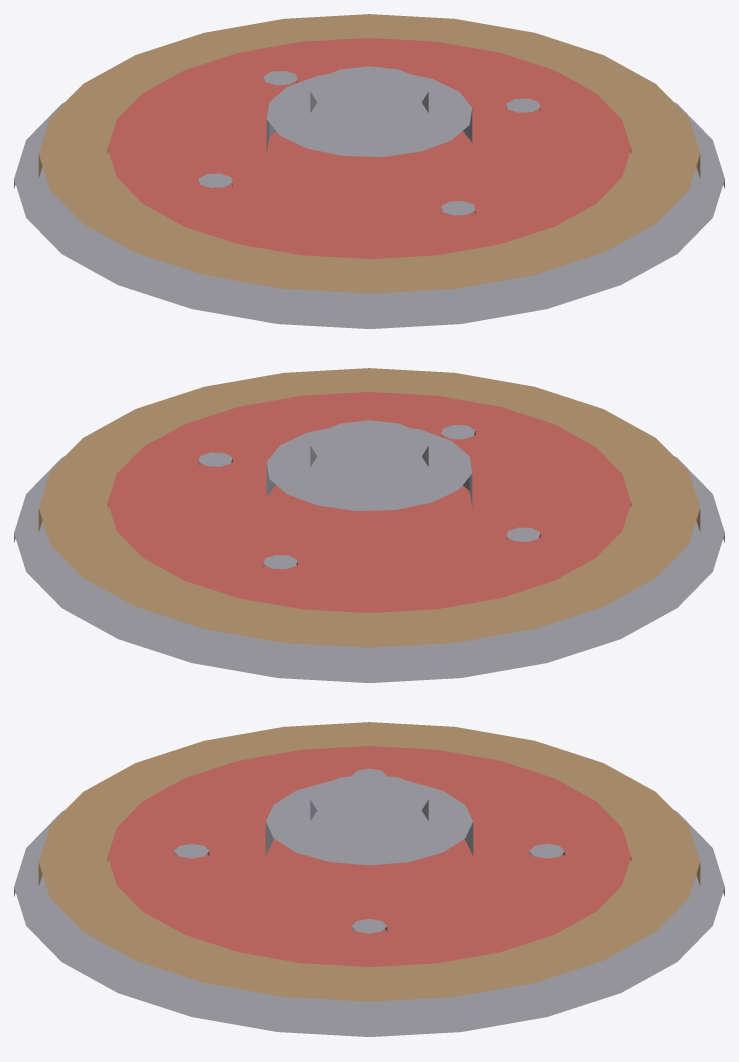
File: shield.glb
3 renders of one model, top to bottom at view 1: azimuth 30°, elevation 25°; view 2: azimuth 150°, elevation 25°; view 3: azimuth 270°, elevation 25°, orthographic.
Parts seen in each view (by area): view 1: prop; view 2: prop; view 3: prop.
Part boxes in pixels (x1,y1,x2,y2): prop: [14, 14, 724, 328]; prop: [14, 368, 724, 682]; prop: [14, 722, 724, 1036].
Size of the model in its own units: 0.72 by 0.166 by 0.72.
